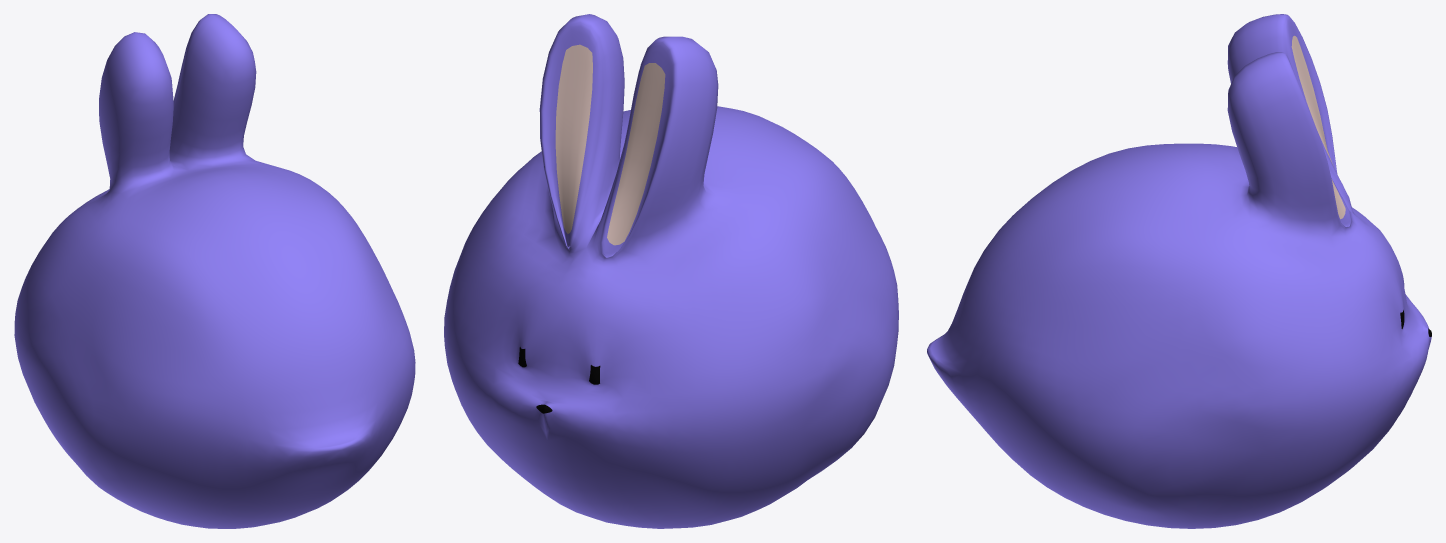
Rendered from prey_43.glb.
3 views of the same model, side by side, from view 1: azimuth 30°, elevation 25°; view 2: azimuth 150°, elevation 25°; view 3: azimuth 270°, elevation 25° (orthographic). The views are drawn at different scales.
Visible parts, largest first — view 1: Cube; view 2: Cube; view 3: Cube.
Boxes of the visible parts, box(x1,y1,x2,y2) form: Cube: box(14, 14, 415, 528); Cube: box(444, 14, 898, 528); Cube: box(927, 14, 1431, 528).
Bounding box in the file's own units: 4.03 × 5.34 × 5.15.
